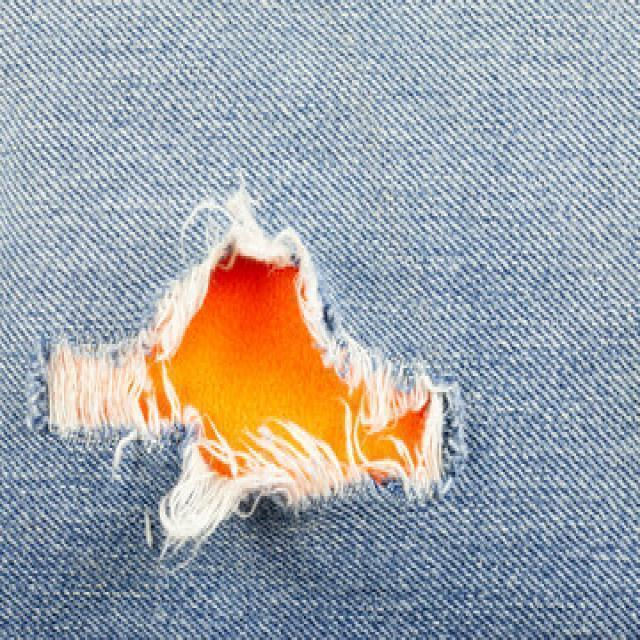Hole: (28, 190, 465, 554)
